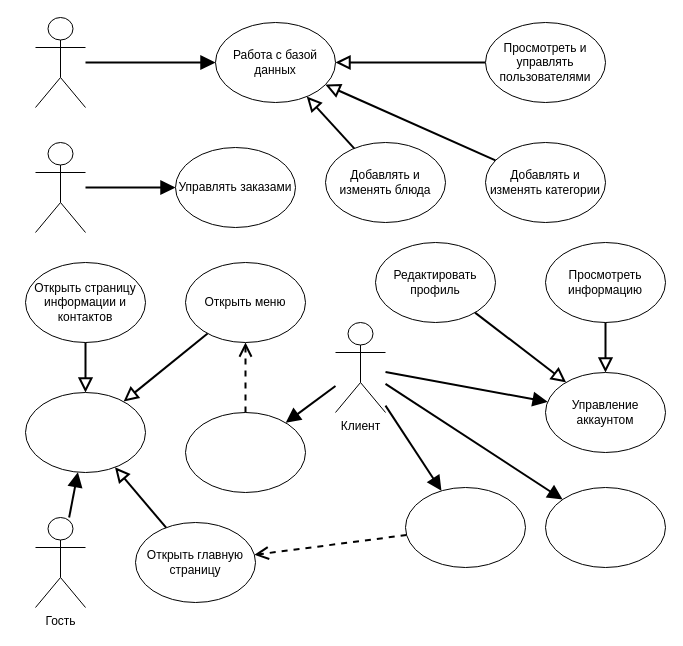
Some shapes in this 683 by 646 pixel diagram are drawn without their labels. The centre of each missing label's shape, as x and y in pixels:
Администратор: (60,62)
Добавить продукт в корзину: (245,452)
Менеджер: (60,187)
Оставить комментарий: (465,527)
Оформить заказ: (605,527)
Просмотр страниц: (85,432)
